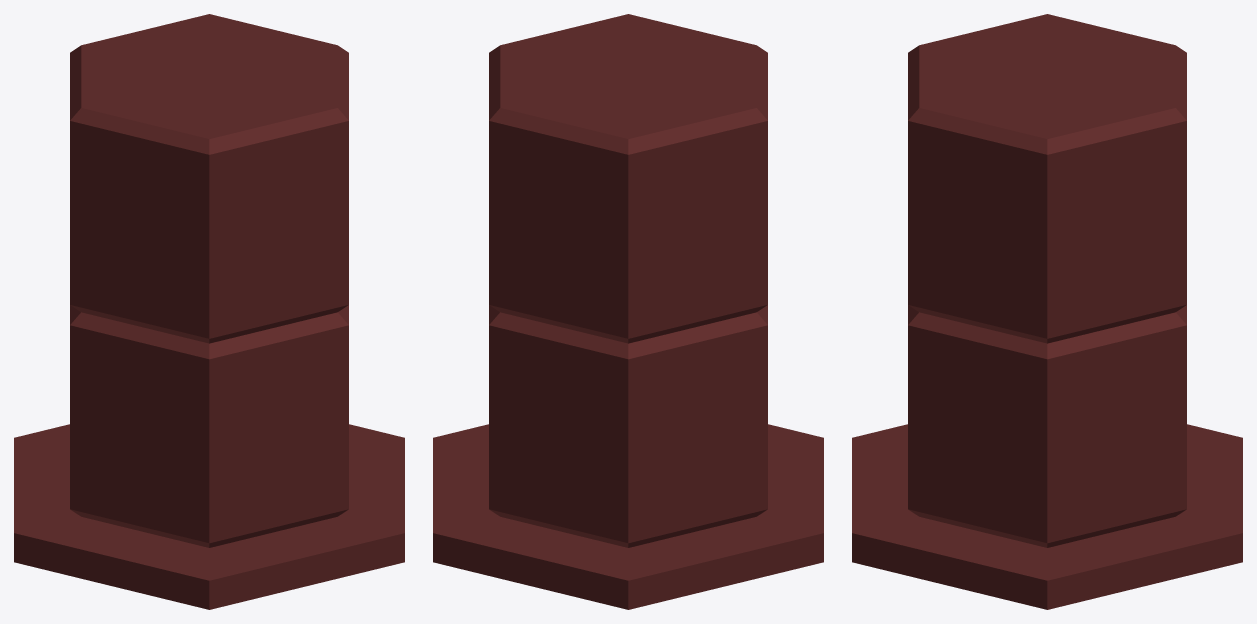
Rendered from column-desert-02.fbx.
The picture shows the model from 3 angles, left to right: view 1: azimuth 30°, elevation 25°; view 2: azimuth 150°, elevation 25°; view 3: azimuth 270°, elevation 25°; orthographic projection.
Visible parts, largest first — view 1: pCylinder45, pCylinder44, pCylinder48; view 2: pCylinder45, pCylinder44, pCylinder48; view 3: pCylinder45, pCylinder44, pCylinder48.
Part boxes in pixels (x1,y1,x2,y2): pCylinder45: (70, 14, 348, 343); pCylinder44: (70, 305, 348, 547); pCylinder48: (14, 424, 404, 609); pCylinder45: (489, 14, 767, 343); pCylinder44: (489, 305, 767, 547); pCylinder48: (433, 424, 823, 609); pCylinder45: (908, 14, 1186, 343); pCylinder44: (908, 305, 1186, 547); pCylinder48: (852, 424, 1242, 609).
Bounding box in the file's own units: 2.8 × 3 × 2.42.
